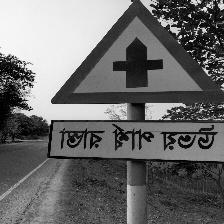Crossroad: (44, 0, 224, 168)
